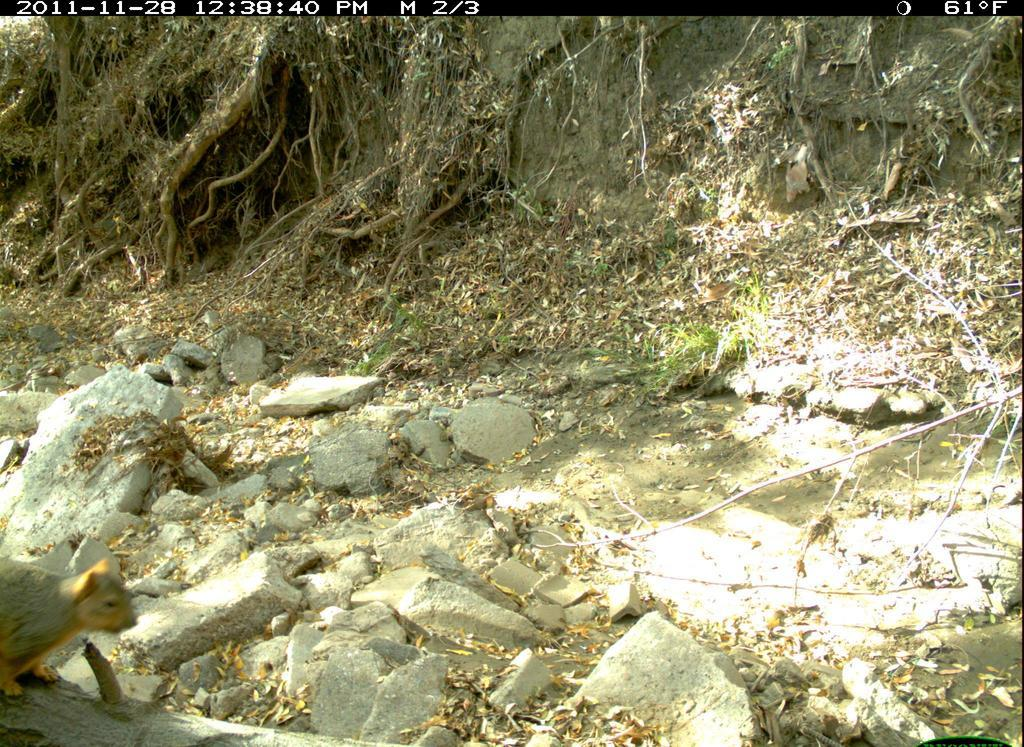squirrel: (4, 525, 146, 722)
